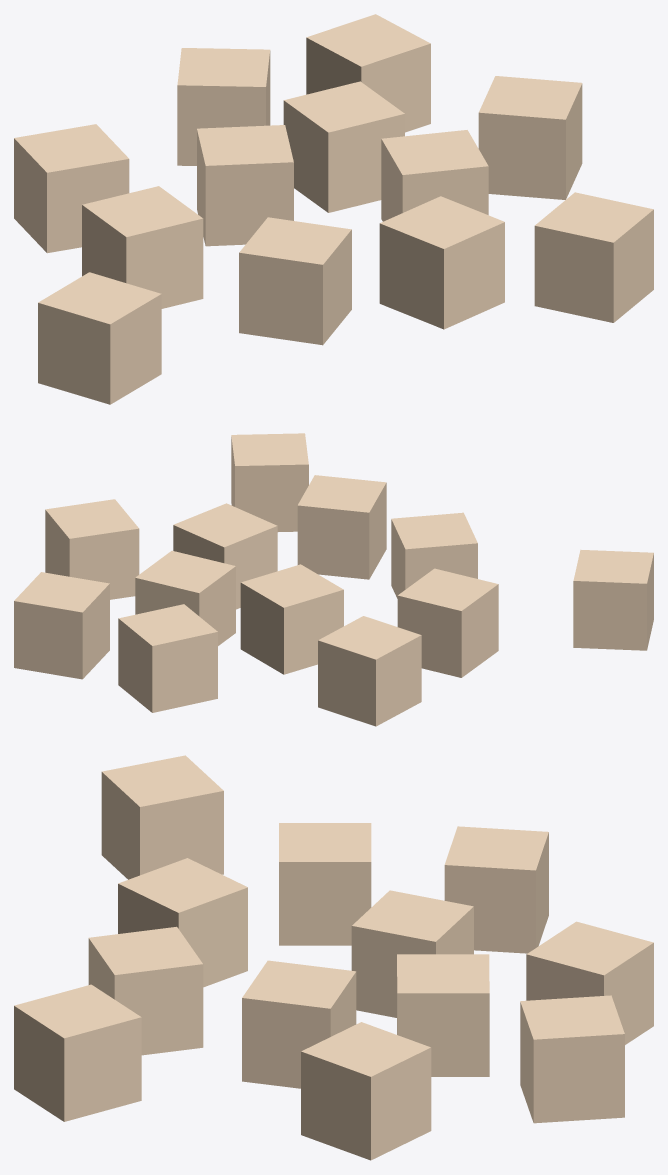
The model's file is garlic-chopped.glb.
The picture shows the model from 3 angles, top to bottom: view 1: azimuth 30°, elevation 25°; view 2: azimuth 150°, elevation 25°; view 3: azimuth 270°, elevation 25°; orthographic projection. The views are drawn at different scales.
Visible parts, largest first — view 1: garlic-chopped; view 2: garlic-chopped; view 3: garlic-chopped.
Part boxes in pixels (box(x1,y1,x2,y2)): garlic-chopped: box(14, 14, 653, 404); garlic-chopped: box(14, 433, 653, 726); garlic-chopped: box(14, 755, 653, 1160).
Bounding box in the file's own units: 0.1649 × 0.02 × 0.1387.
Materials: 1 (1 with a texture image).
